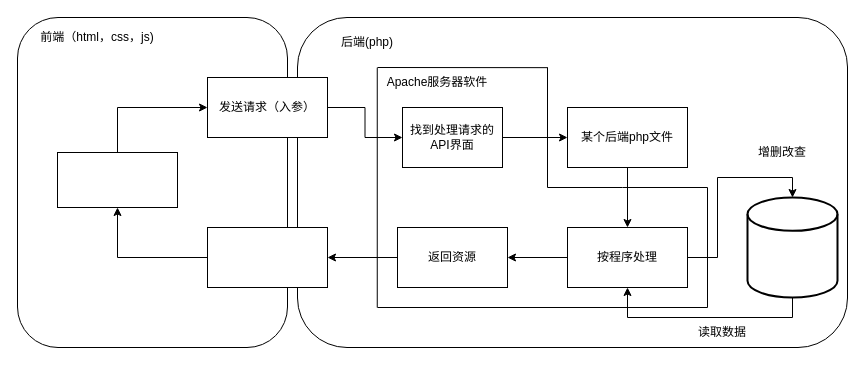
This 865x365 diagram has some shape labels left out. The centre of each missing label's shape, as x and y in pixels:
"发送结果（出参）" goes at point 267,257.
"数据库（sqlite）" goes at point 792,247.
"页面" goes at point 117,180.
